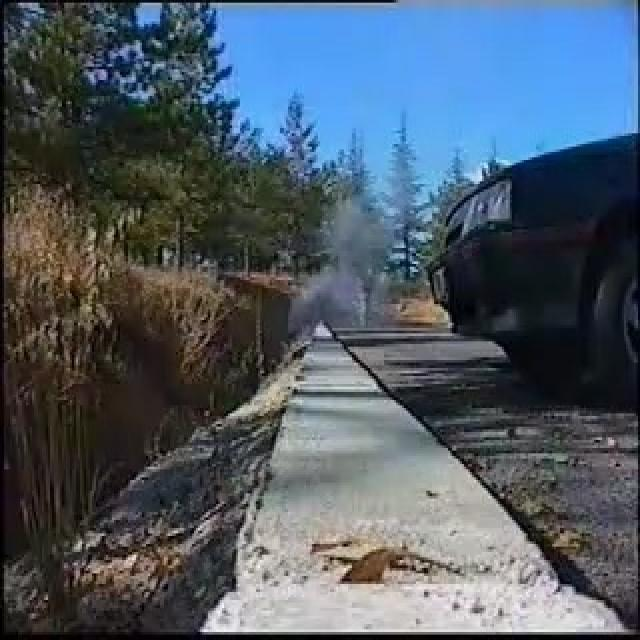smoke: (291, 217, 372, 332)
